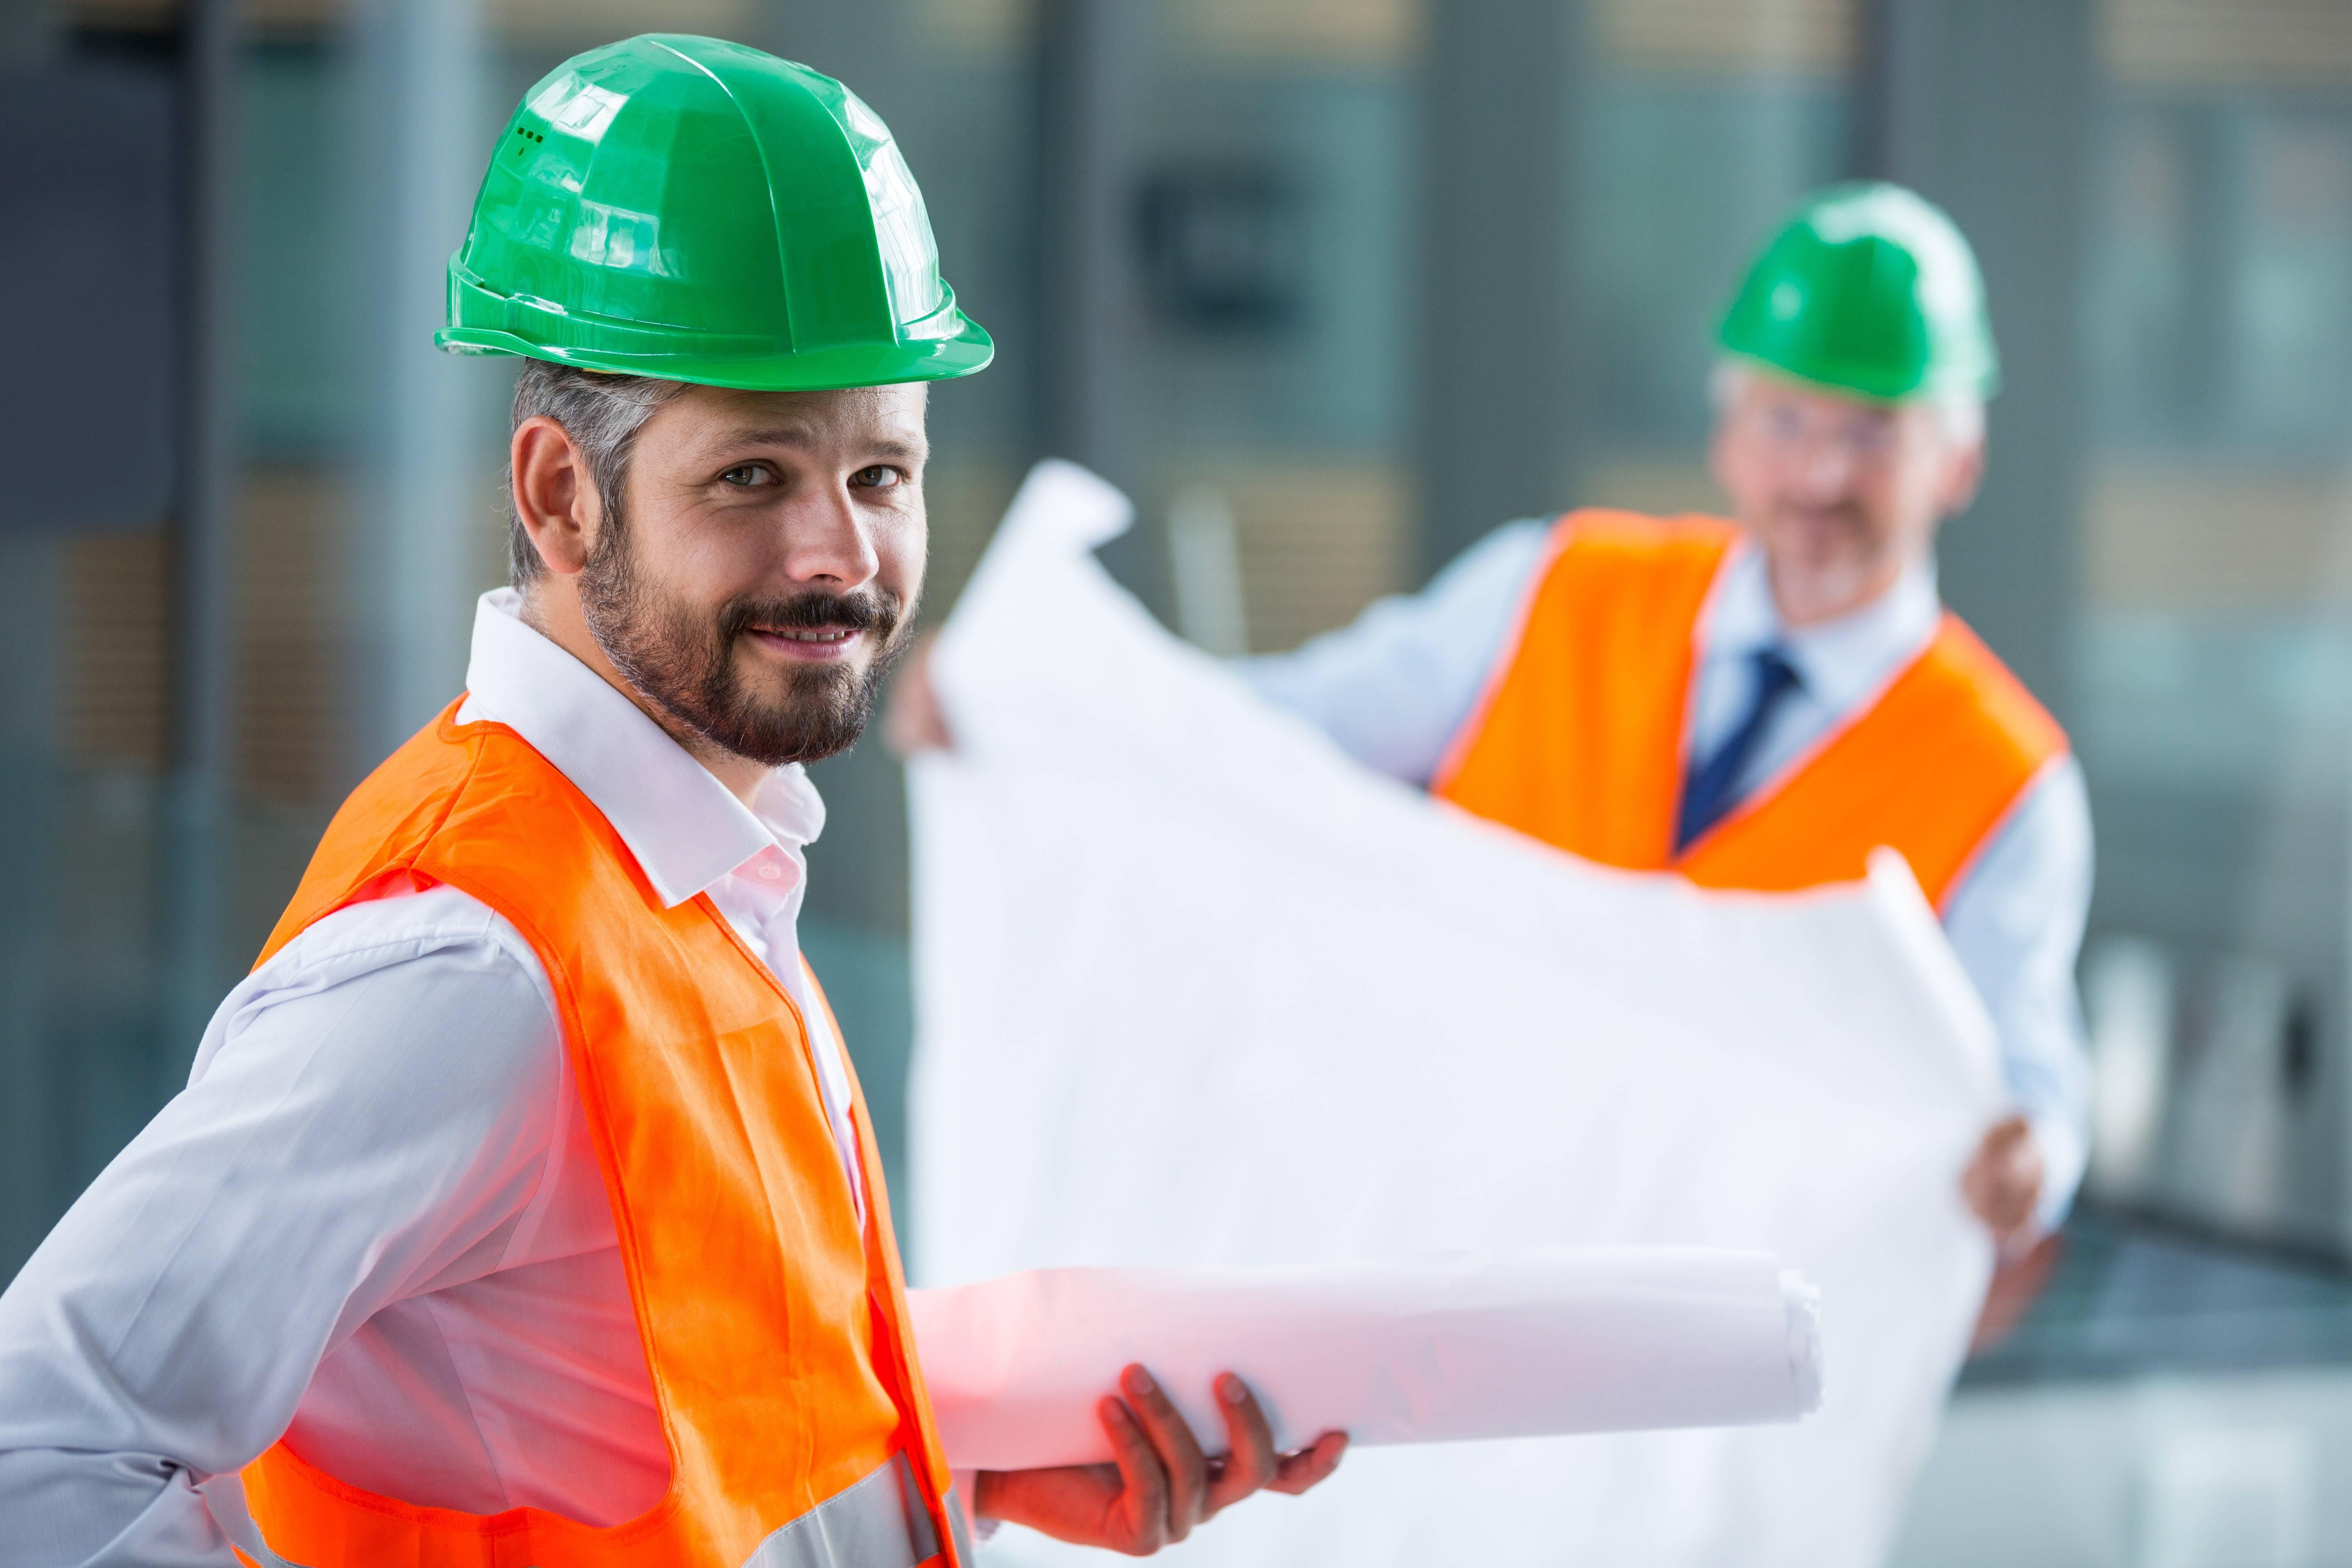helmet: (427, 31, 983, 388), (1713, 180, 2000, 411)
